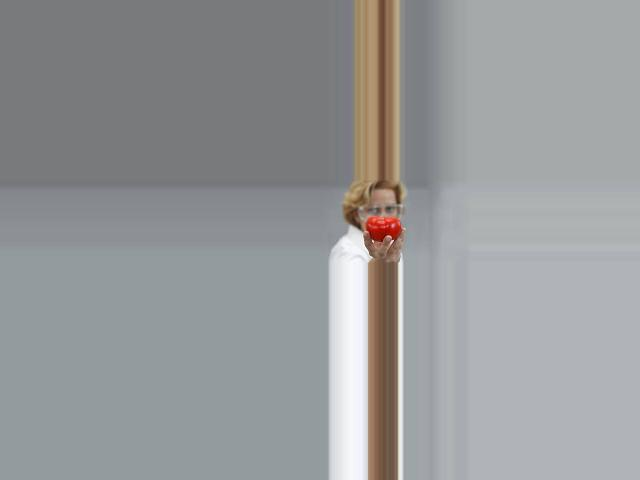tomato: (364, 217, 400, 241)
